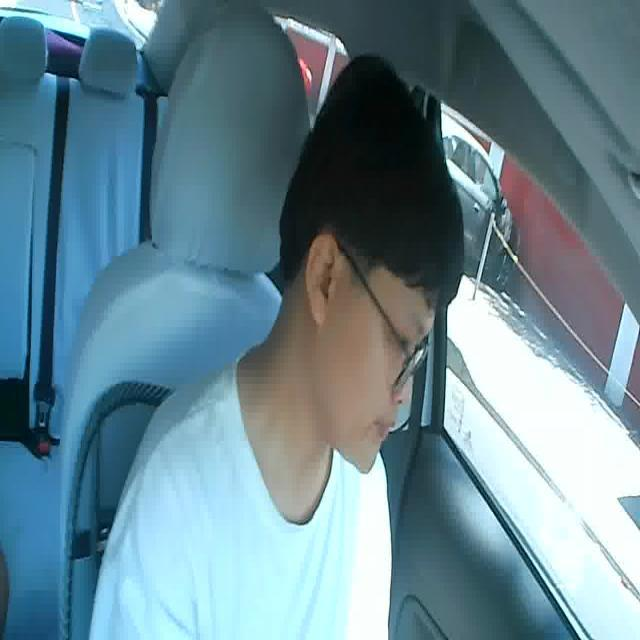Eye-Open: (392, 328, 420, 354)
Inattentive: (275, 51, 464, 476)
Normal: (370, 410, 395, 438)
